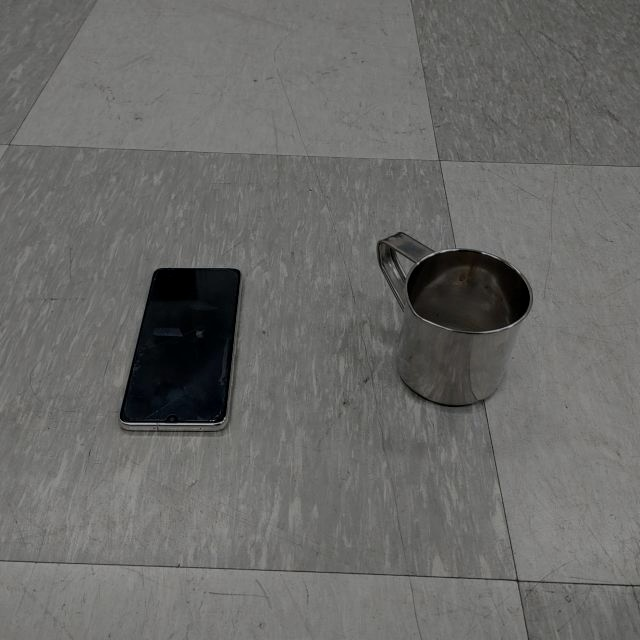cup: (377, 232, 530, 407)
phone: (117, 268, 243, 434)
